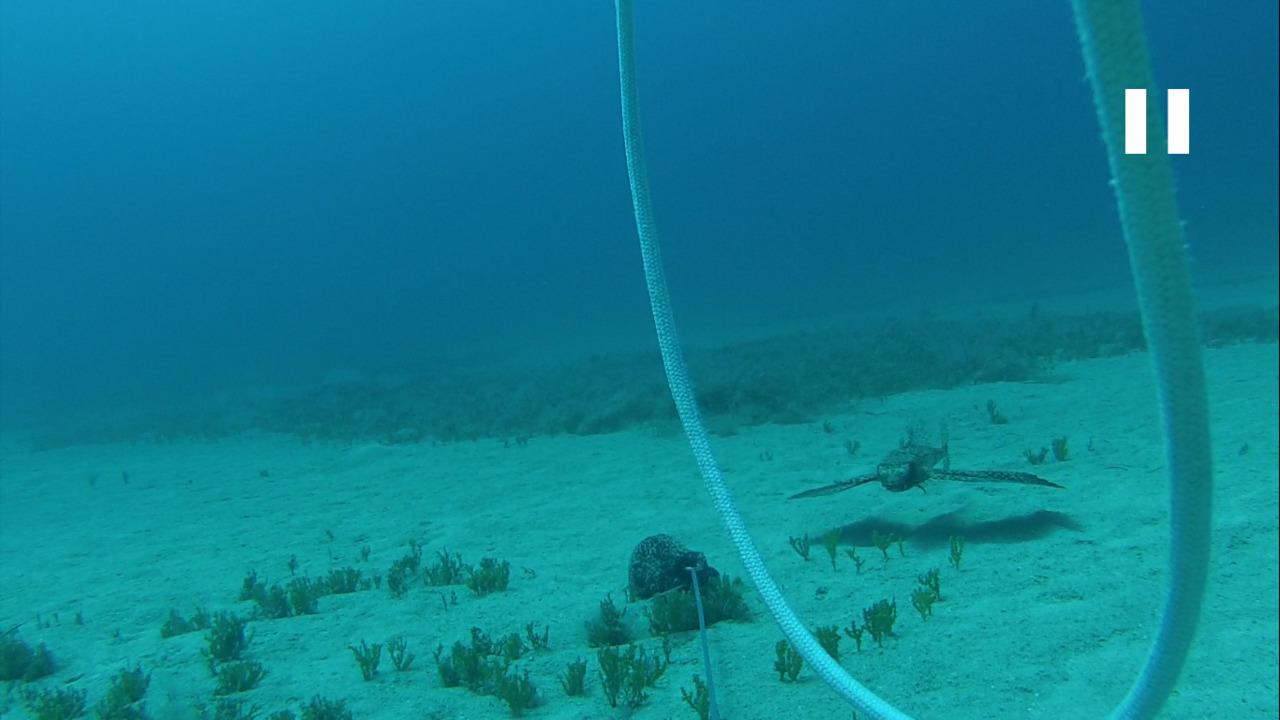dactylopterus: (769, 421, 1065, 499)
